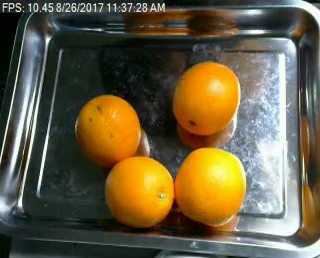Orange: (175, 146, 245, 223), (104, 155, 174, 228), (172, 60, 239, 134), (75, 93, 141, 168)
